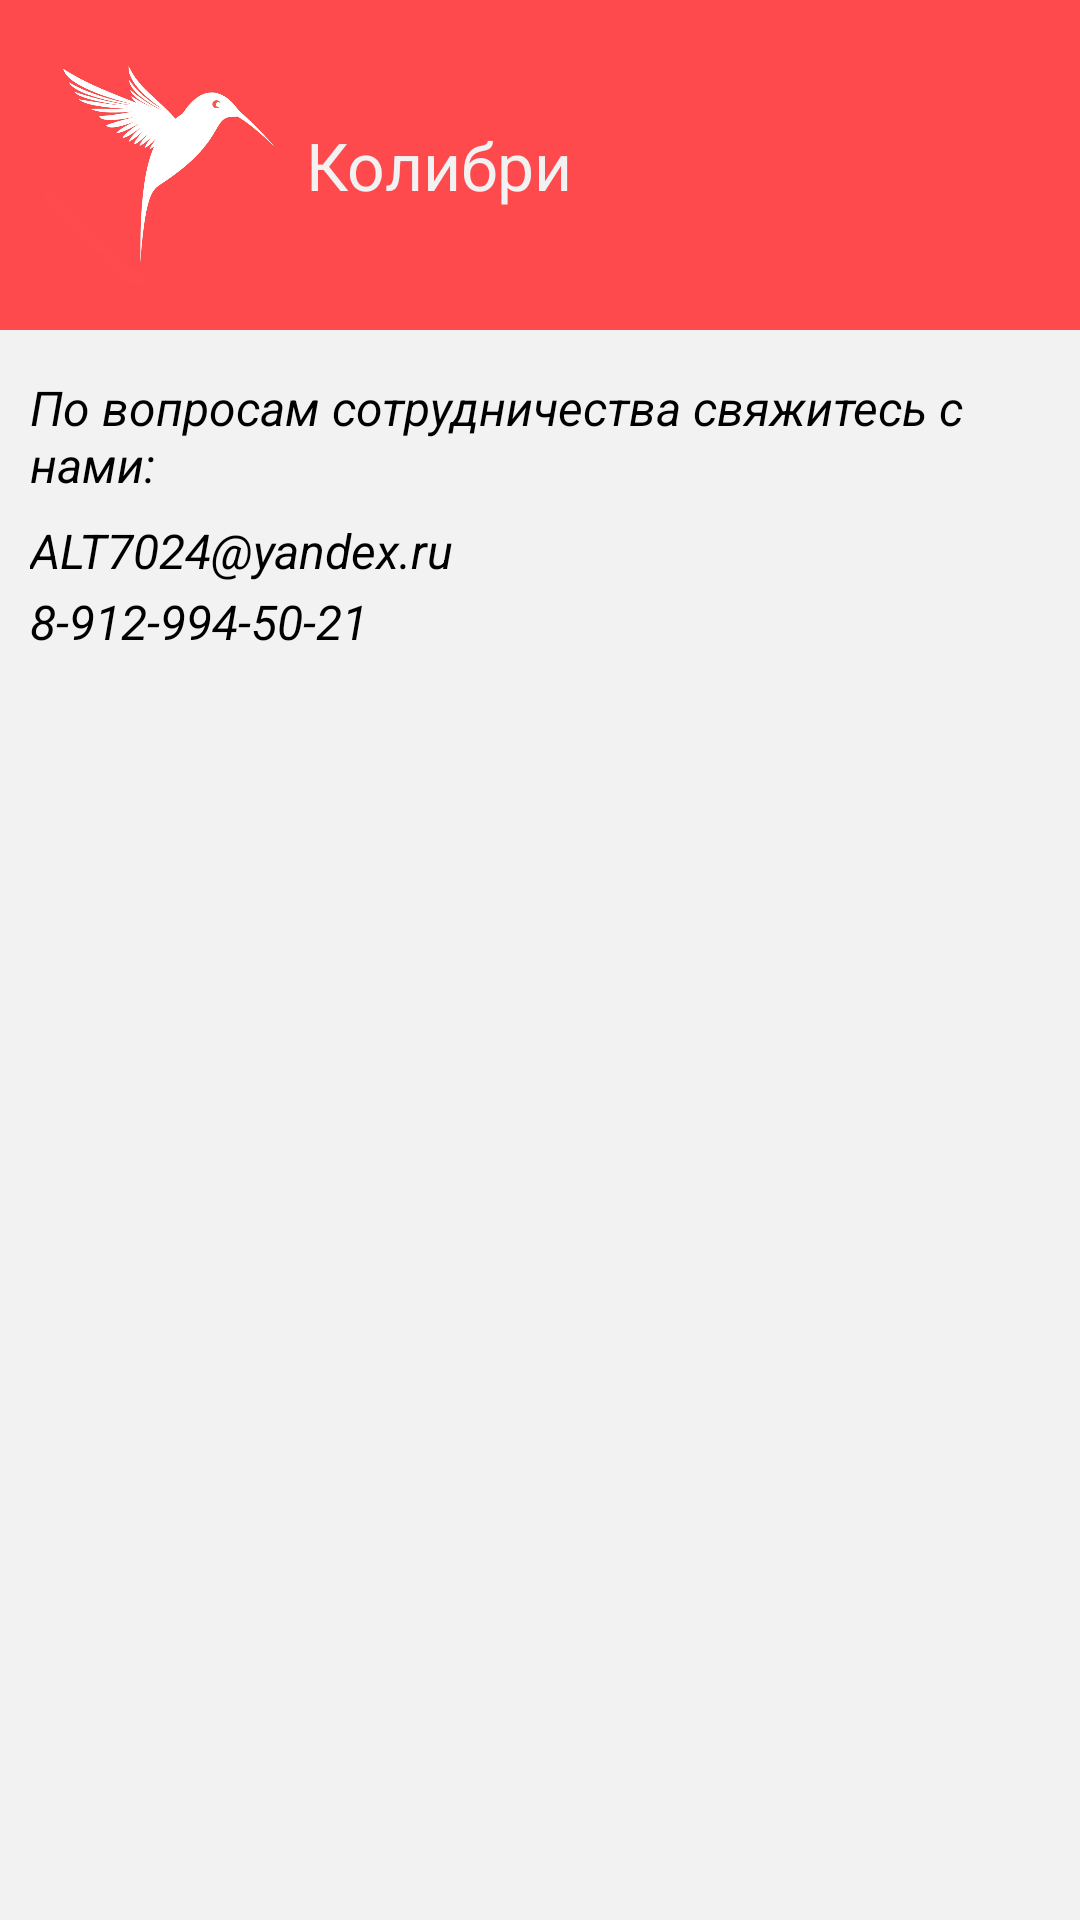

Named icons in this screenshot (1080x1920) and their centers, point (x, y):
birdicon option: point (168, 163)
